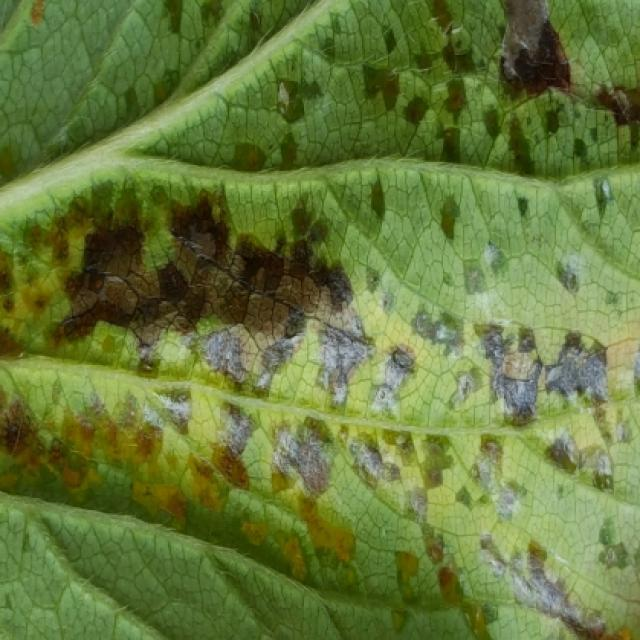Angular Leafspot: (0, 0, 638, 638)
